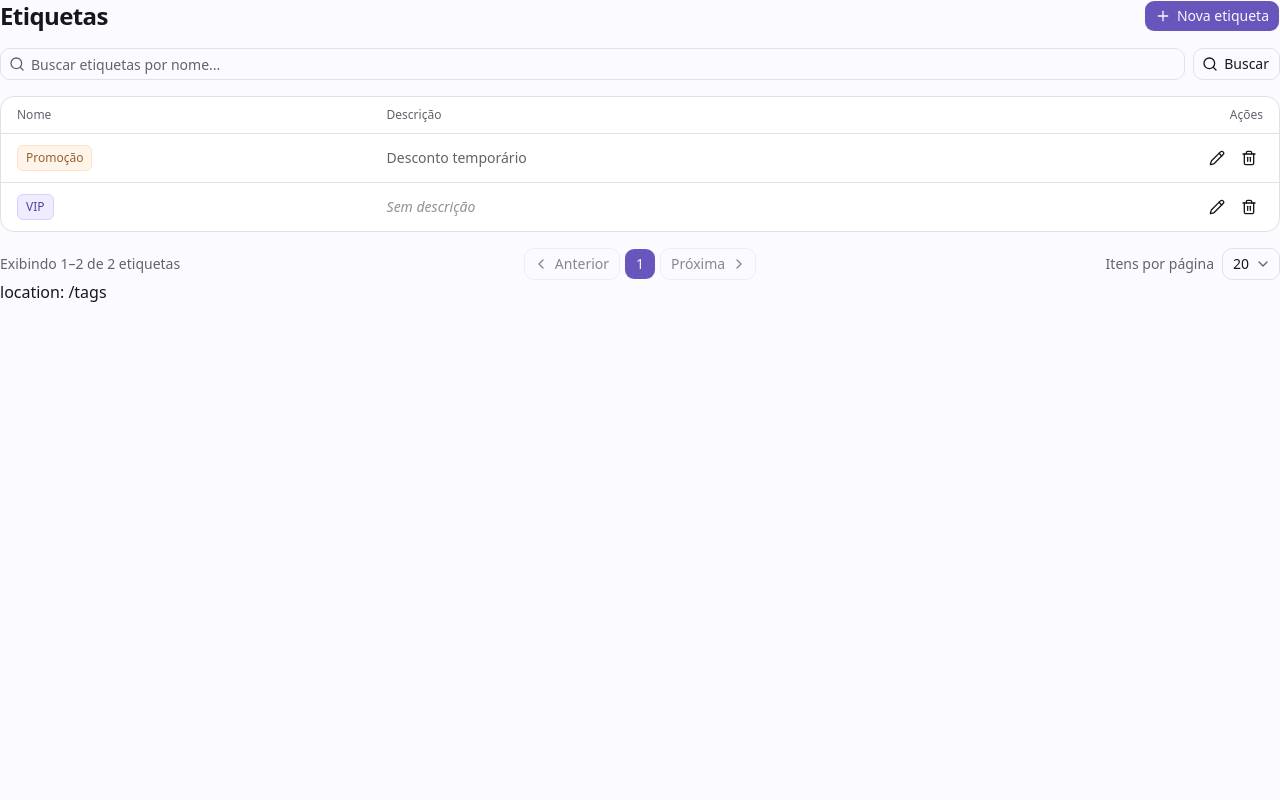
Scenario: TagDeletePage › deletes the tag, reloads the list from the backend and returns to /tags on confirm (spec US4)
Expected: the text "Promoção" is shown, top-left (17, 145), bottom-right (92, 171)
Click the link named "Excluir Promoção". click: (1249, 158)
box: top-left (1241, 150), bottom-right (1257, 166)
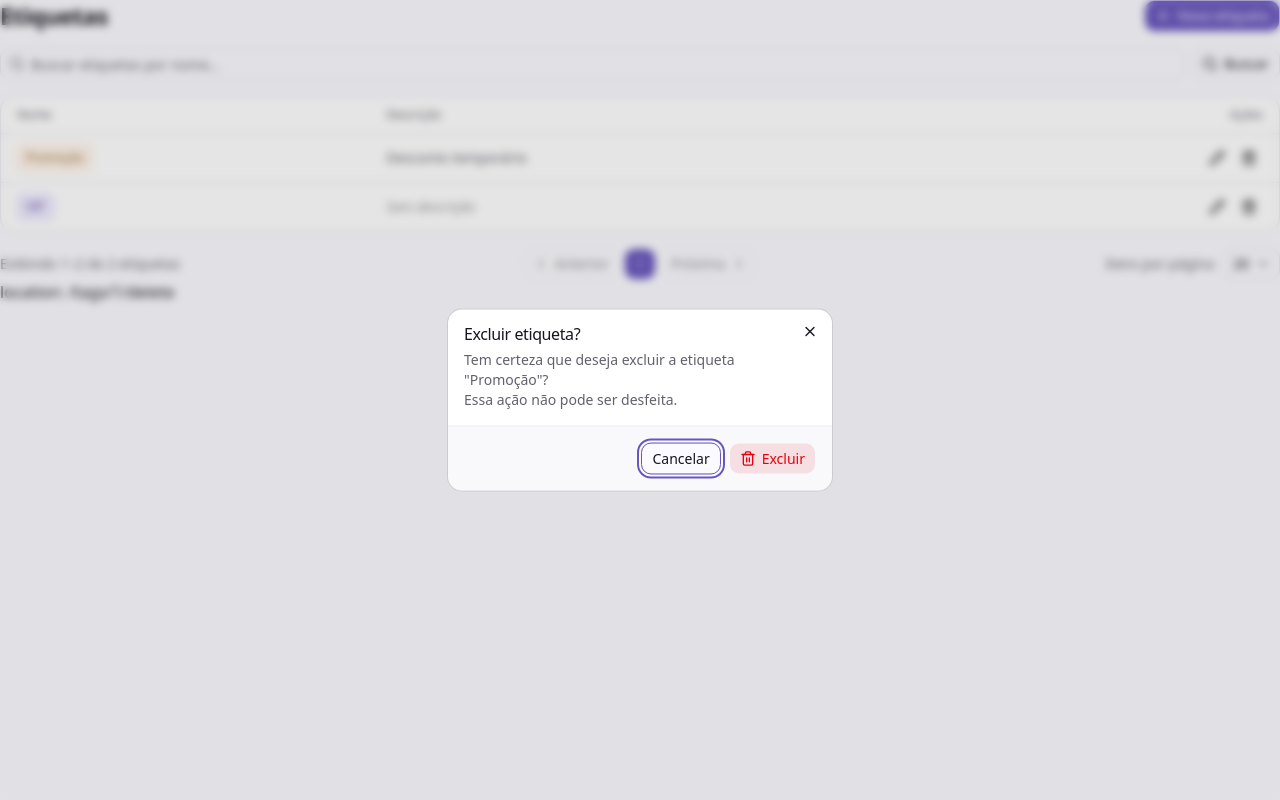
Expected: the text "Tem certeza que deseja excluir a etiqueta \"Promoção\"?" is shown, top-left (464, 350), bottom-right (735, 388)
Click the button "Excluir". click: (772, 458)
box: top-left (729, 442), bottom-right (816, 474)
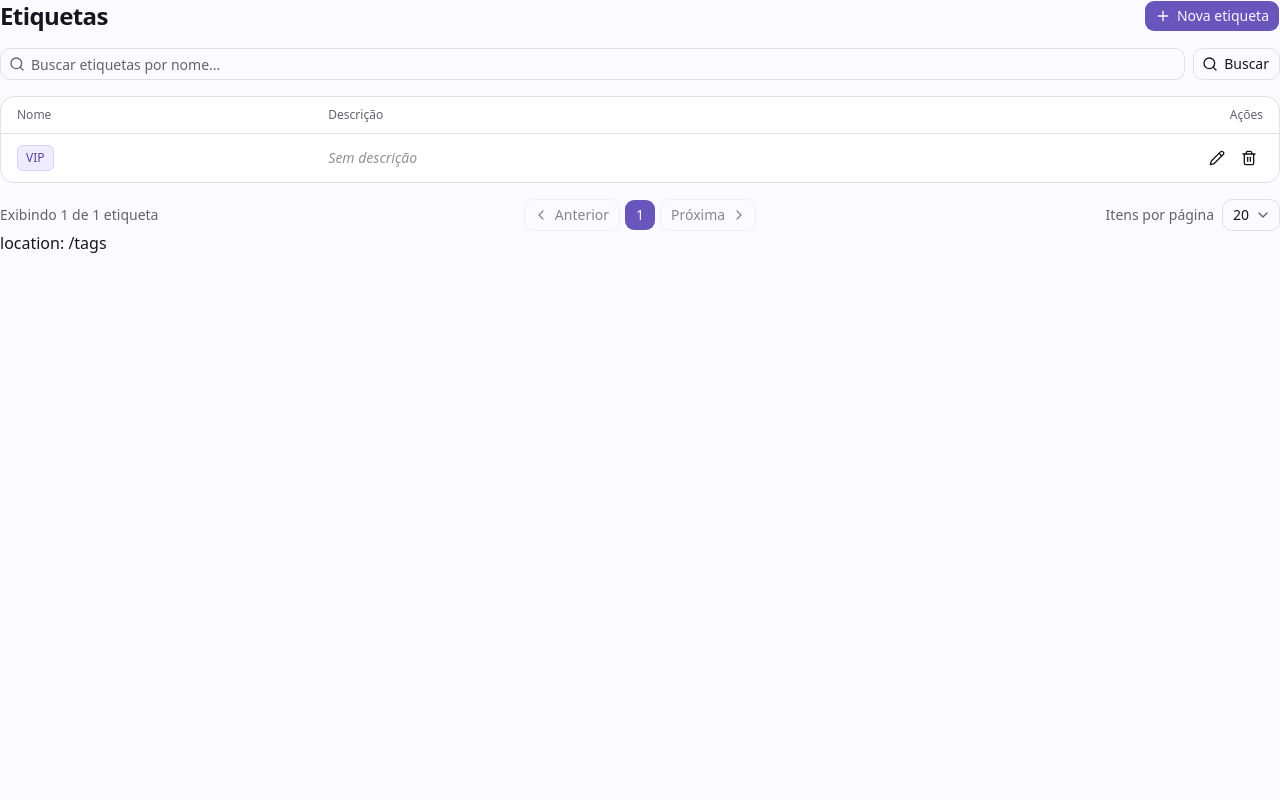
Expected: the text "Promoção" is gone
Expected: the text with test id "location" reads "location: /tags", top-left (0, 232), bottom-right (107, 254)
Expected: the heading "Excluir etiqueta?" is gone
